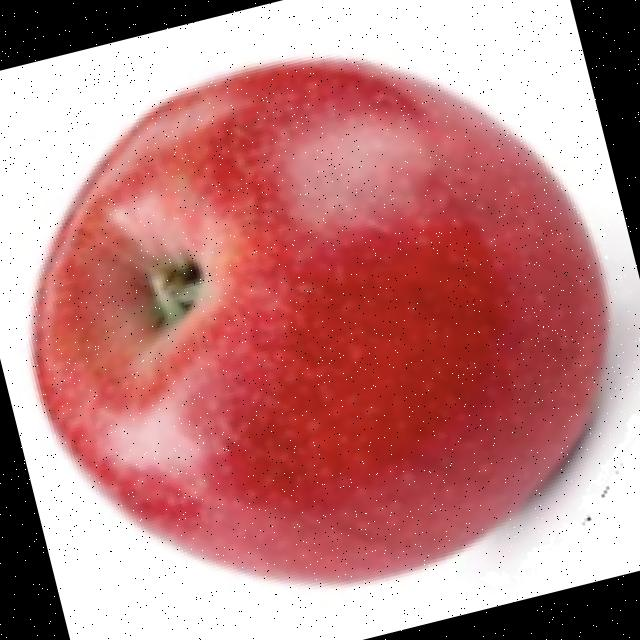apple: (17, 45, 640, 594)
